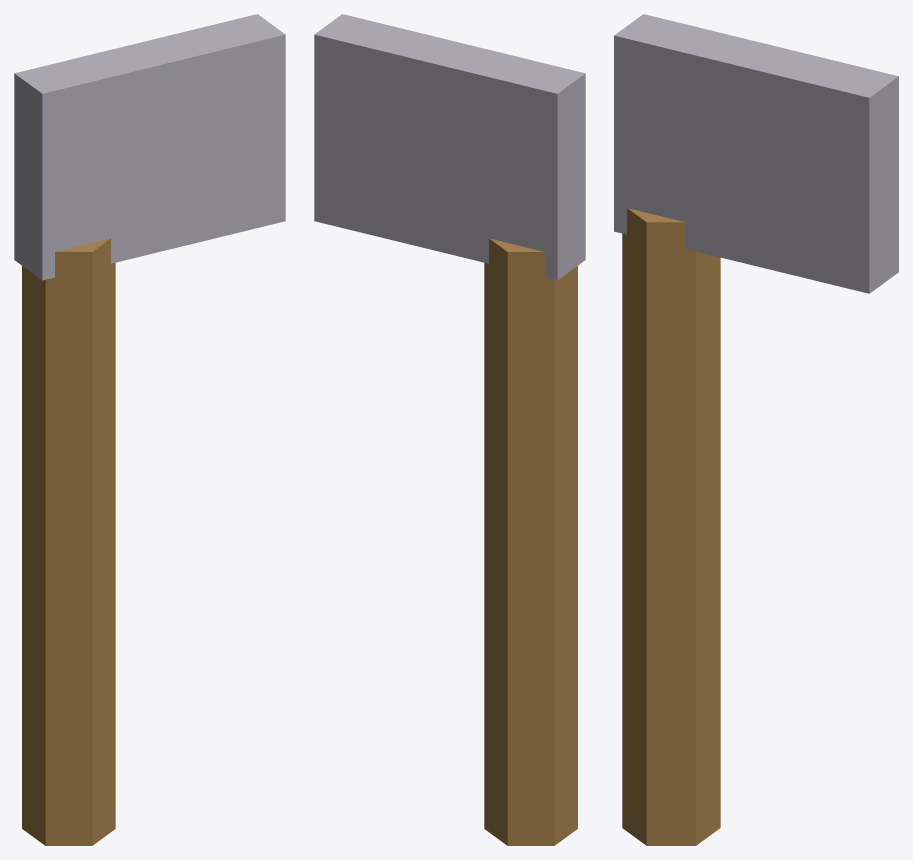
The model's file is stone_hatchet.dae.
3 views of the same model, side by side, from view 1: azimuth 30°, elevation 25°; view 2: azimuth 150°, elevation 25°; view 3: azimuth 330°, elevation 25° (orthographic). The views are drawn at different scales.
Visible parts, largest first — view 1: Cube, Cylinder; view 2: Cube, Cylinder; view 3: Cube, Cylinder.
Boxes of the visible parts, box(x1,y1,x2,y2) form: Cube: box(14, 14, 285, 280); Cylinder: box(22, 238, 115, 845); Cube: box(314, 14, 585, 280); Cylinder: box(484, 238, 577, 845); Cube: box(614, 14, 898, 293); Cylinder: box(622, 208, 720, 845).
Size of the model in its own units: 30 by 10 by 89.
